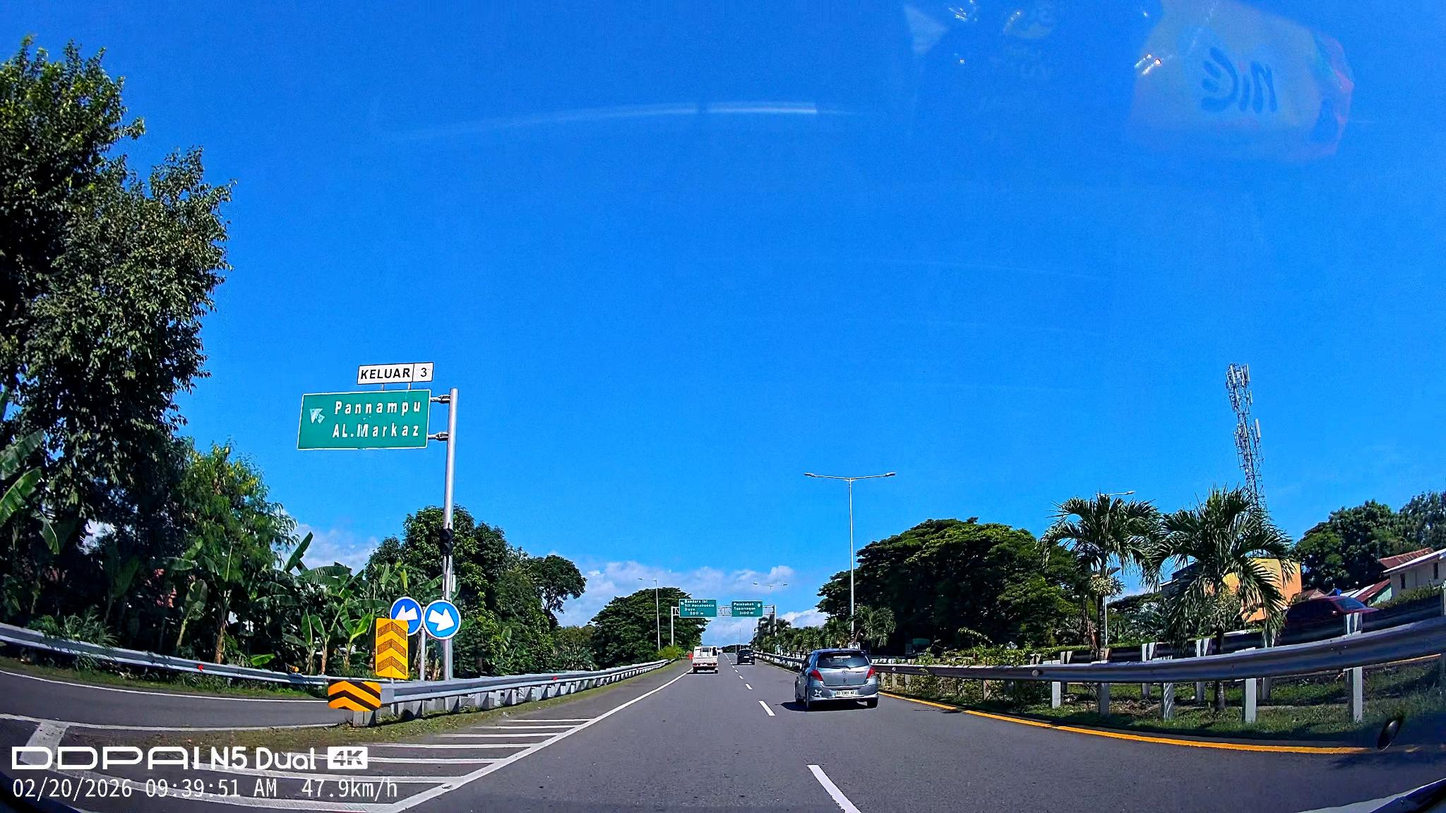rambu_teks: (300, 392, 429, 448)
